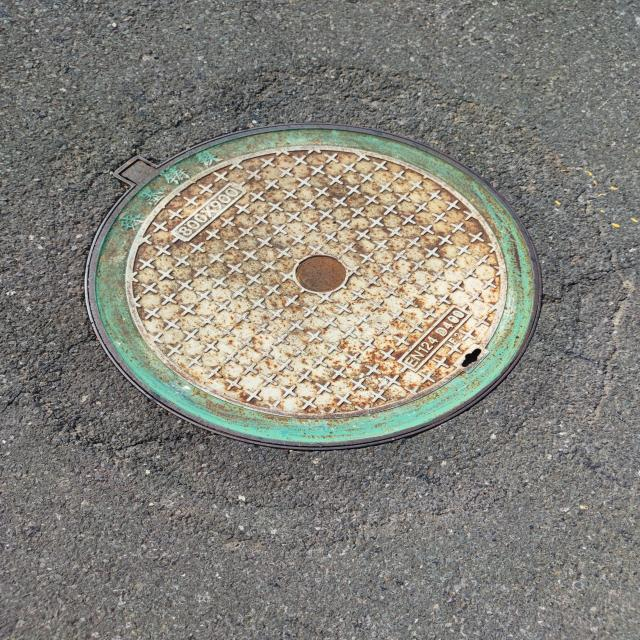Good: (80, 118, 552, 460)
